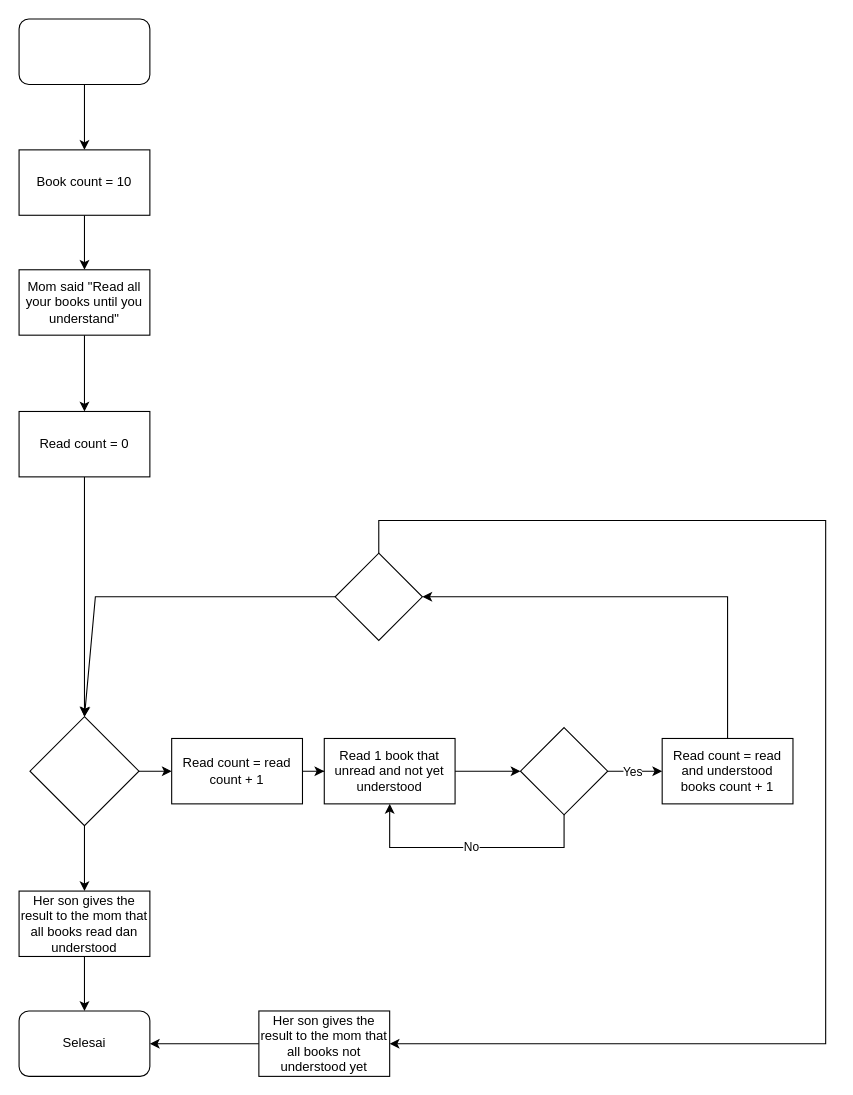
Some shapes in this 853 by 1095 pixel diagram are drawn without their labels. The shapes that lost their labels are listed below. From the top down, each one's centre as x and y in pixels, then its label:
At point (84, 51): "Start".
At point (378, 596): "Read count < Book count * 2".
At point (84, 771): "Read count = Book count?".
At point (563, 770): "understand?".
